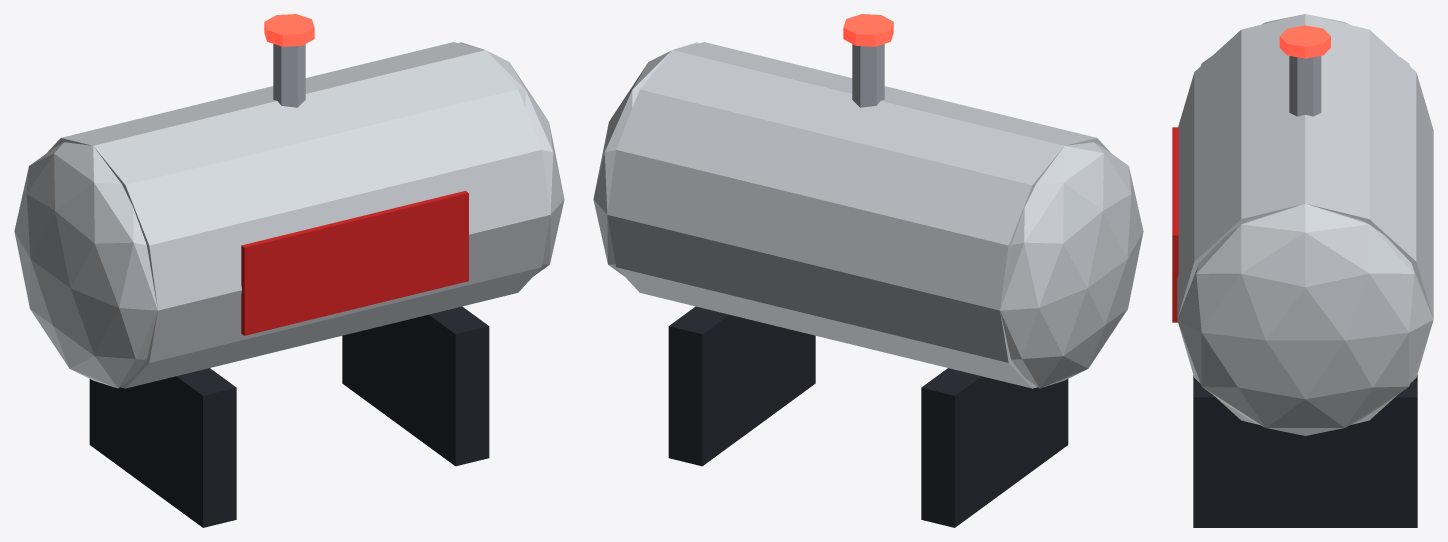
File: fuel_tank.glb
3 views of the same model, side by side, from view 1: azimuth 30°, elevation 25°; view 2: azimuth 150°, elevation 25°; view 3: azimuth 270°, elevation 25° (orthographic).
Visible parts, largest first — view 1: fuel_tank; view 2: fuel_tank; view 3: fuel_tank.
Boxes of the visible parts, left/top/right/bottom form: fuel_tank: left=14, top=14, right=564, bottom=527; fuel_tank: left=593, top=14, right=1143, bottom=527; fuel_tank: left=1172, top=14, right=1433, bottom=527.
Size of the model in its own units: 1.7 by 1.45 by 0.815.
